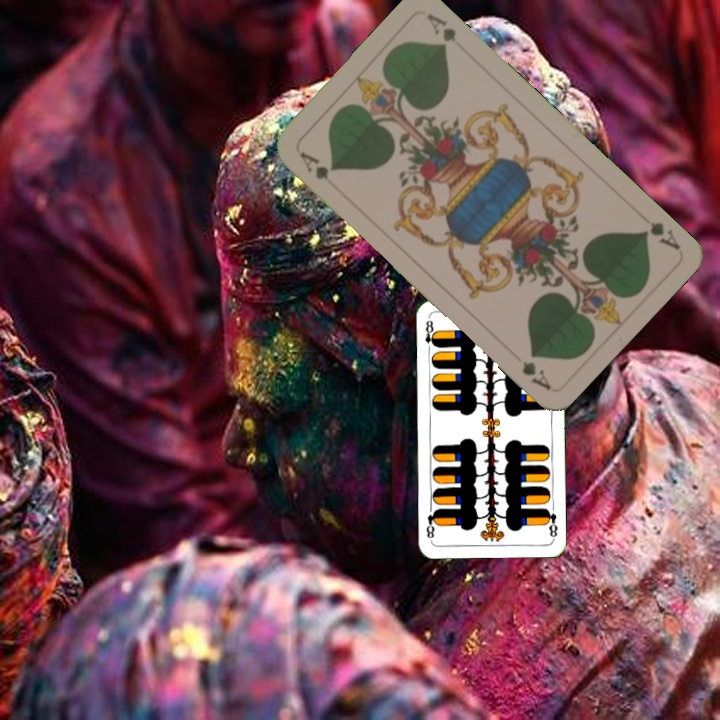E8: (421, 313, 438, 354), (542, 504, 560, 541)
GA: (638, 217, 683, 252), (295, 147, 337, 183)
